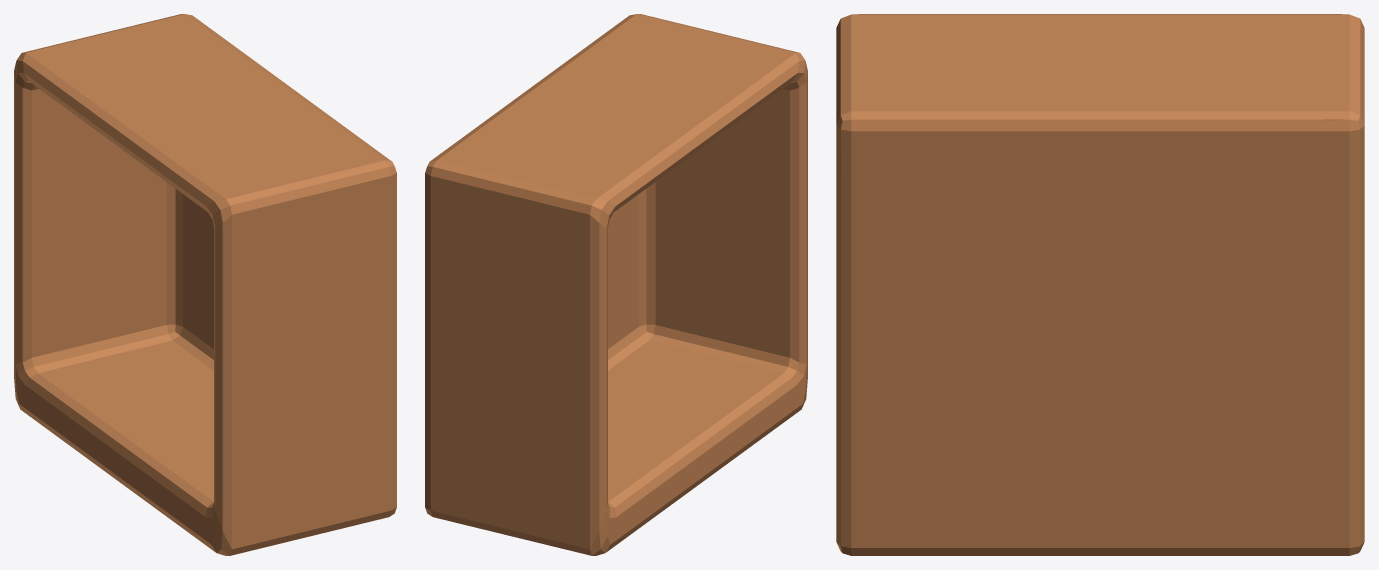
Rendered from Bedside Drawer.fbx.
3 renders of one model, left to right at view 1: azimuth 30°, elevation 25°; view 2: azimuth 150°, elevation 25°; view 3: azimuth 270°, elevation 25°, orthographic. The views are drawn at different scales.
Parts seen in each view (by area): view 1: bedside-drawer; view 2: bedside-drawer; view 3: bedside-drawer.
Part boxes in pixels (left/top/right/bottom): bedside-drawer: left=14, top=14, right=396, bottom=555; bedside-drawer: left=425, top=14, right=807, bottom=555; bedside-drawer: left=836, top=14, right=1364, bottom=555.
Size of the model in its own units: 229 by 433 by 467.
